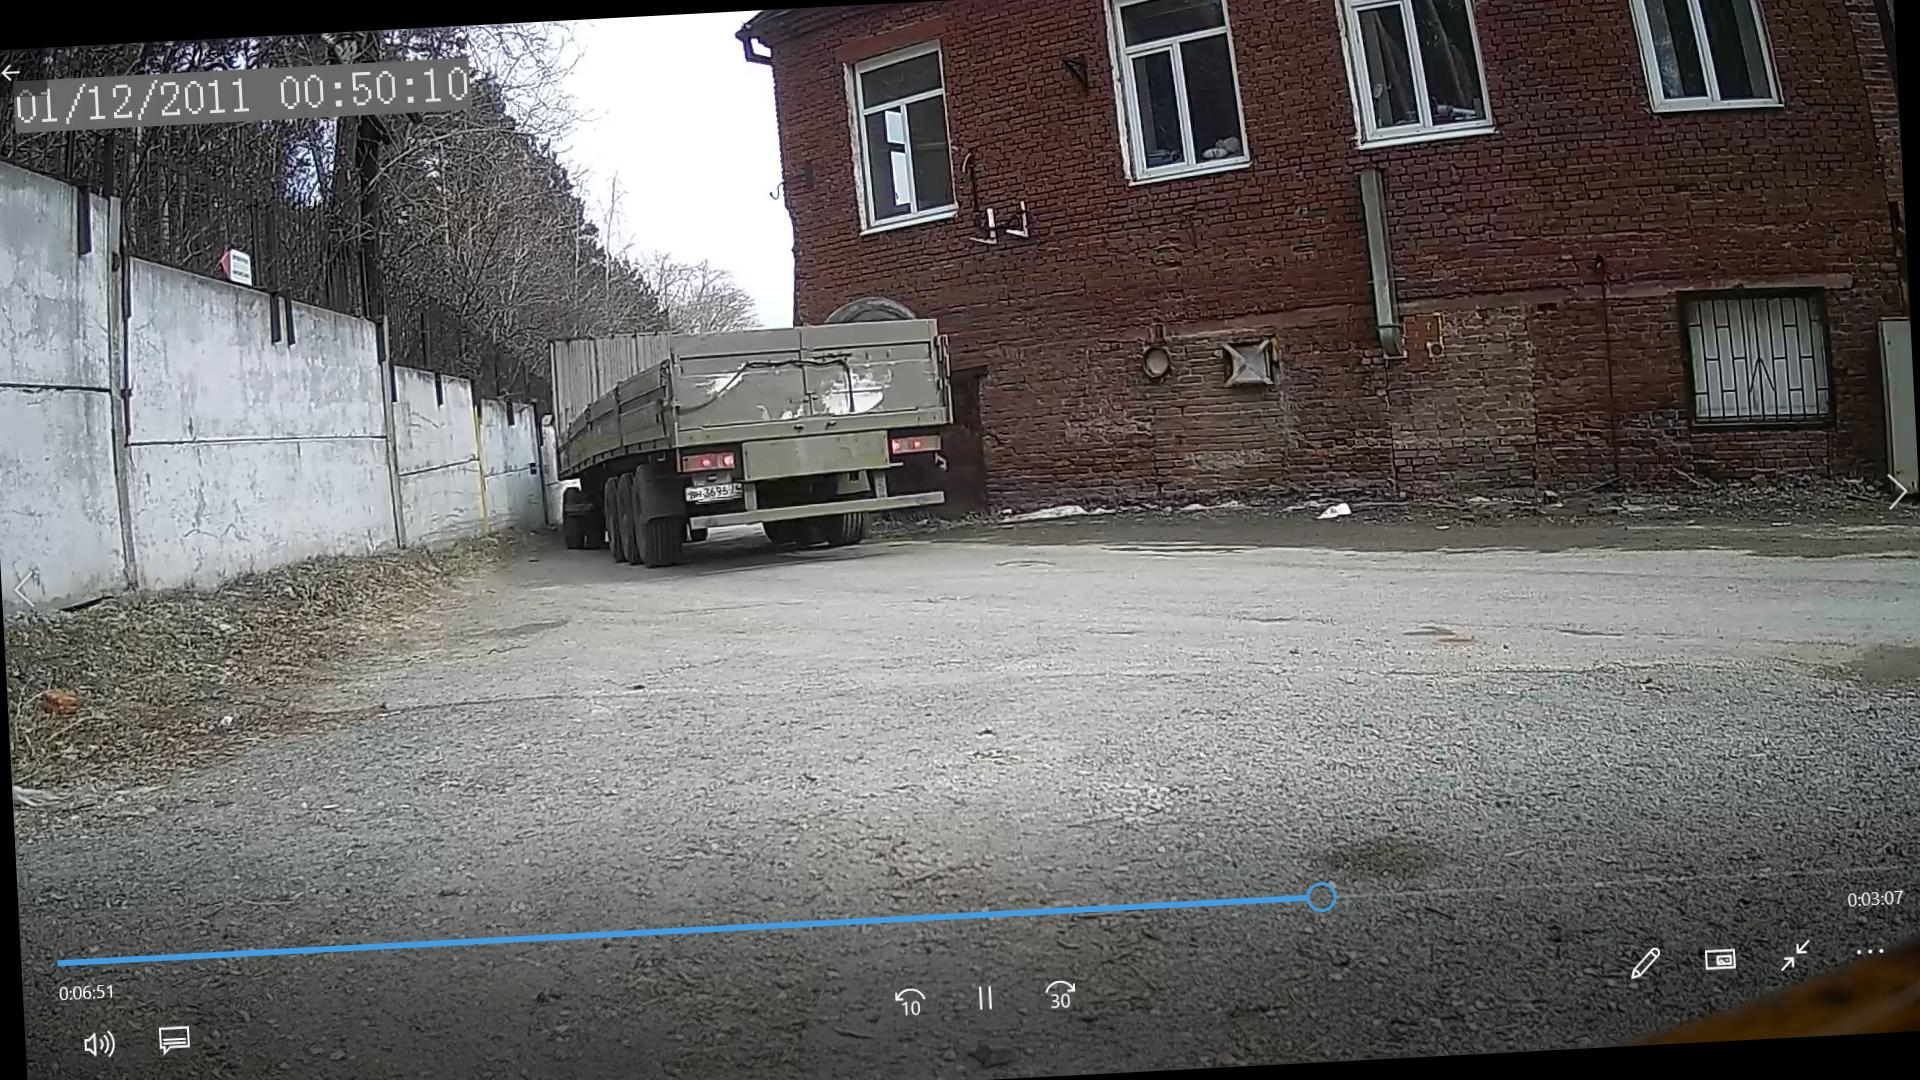plate: (690, 484, 748, 500)
